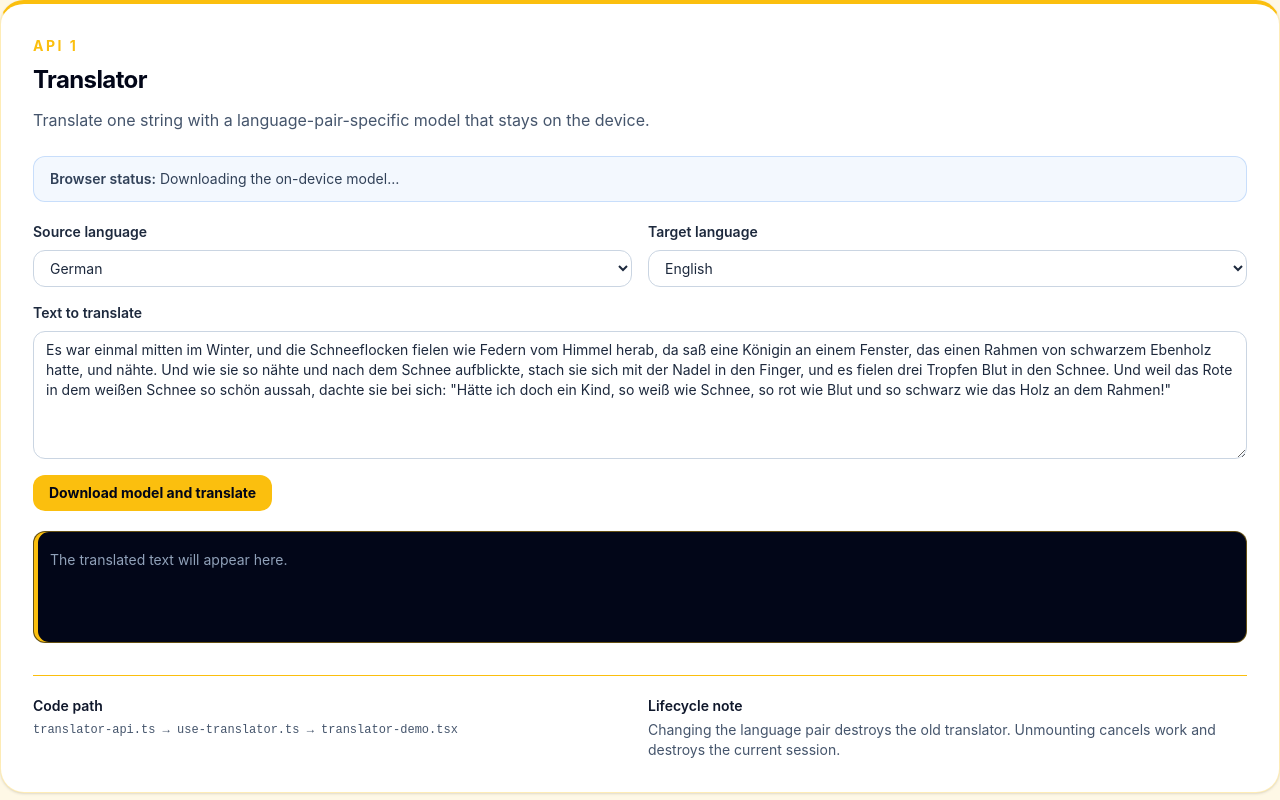
Test: Translator demo › lets the user join an in-progress model download
Click the button "Download model and translate": [153, 493] box top-left (33, 475), bottom-right (272, 511)
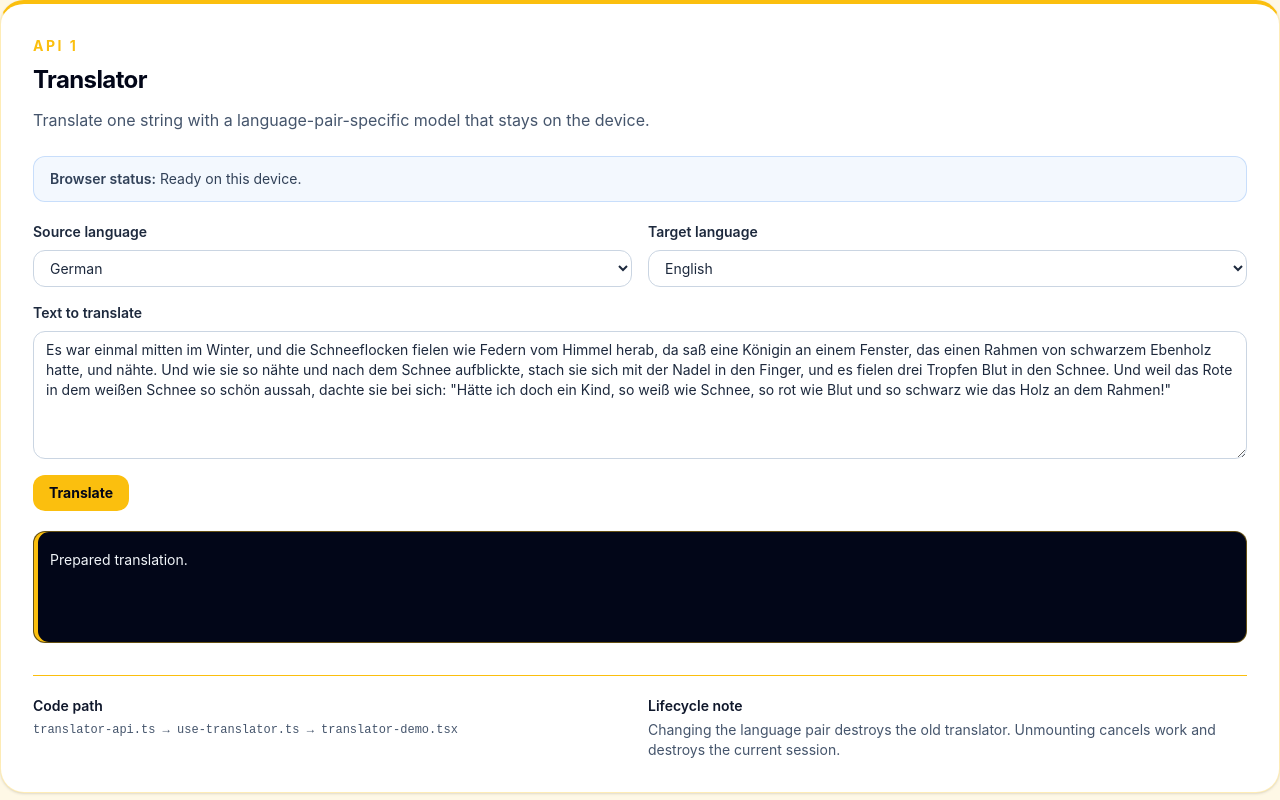
Expected: the text "Prepared translation." is shown, top-left (50, 551), bottom-right (188, 568)
